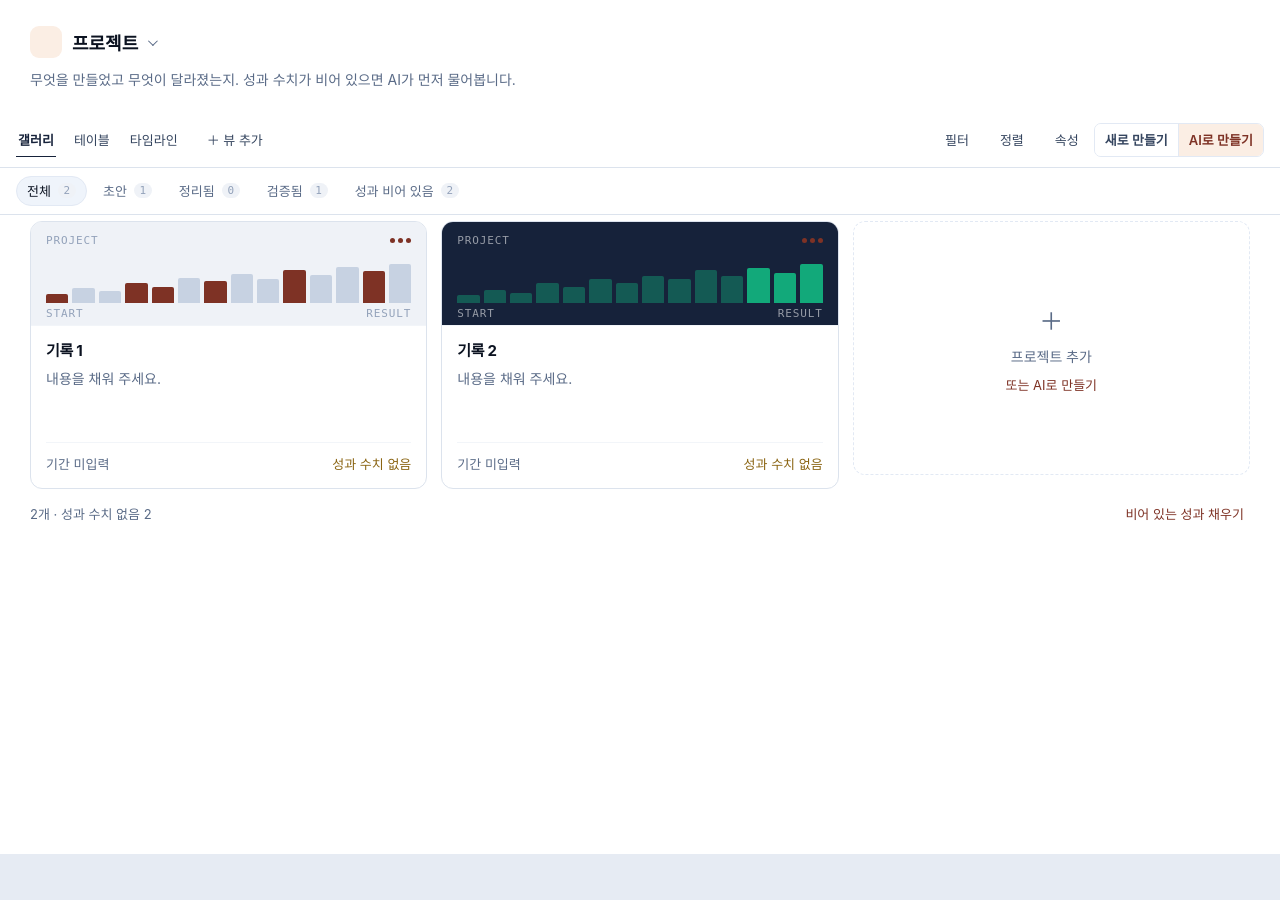
CareerViewShell › routes the project missing-outcome action into guided questions
Click the button "비어 있는 성과 채우기".
click(1185, 513)  # box left=1119, top=502, right=1250, bottom=524
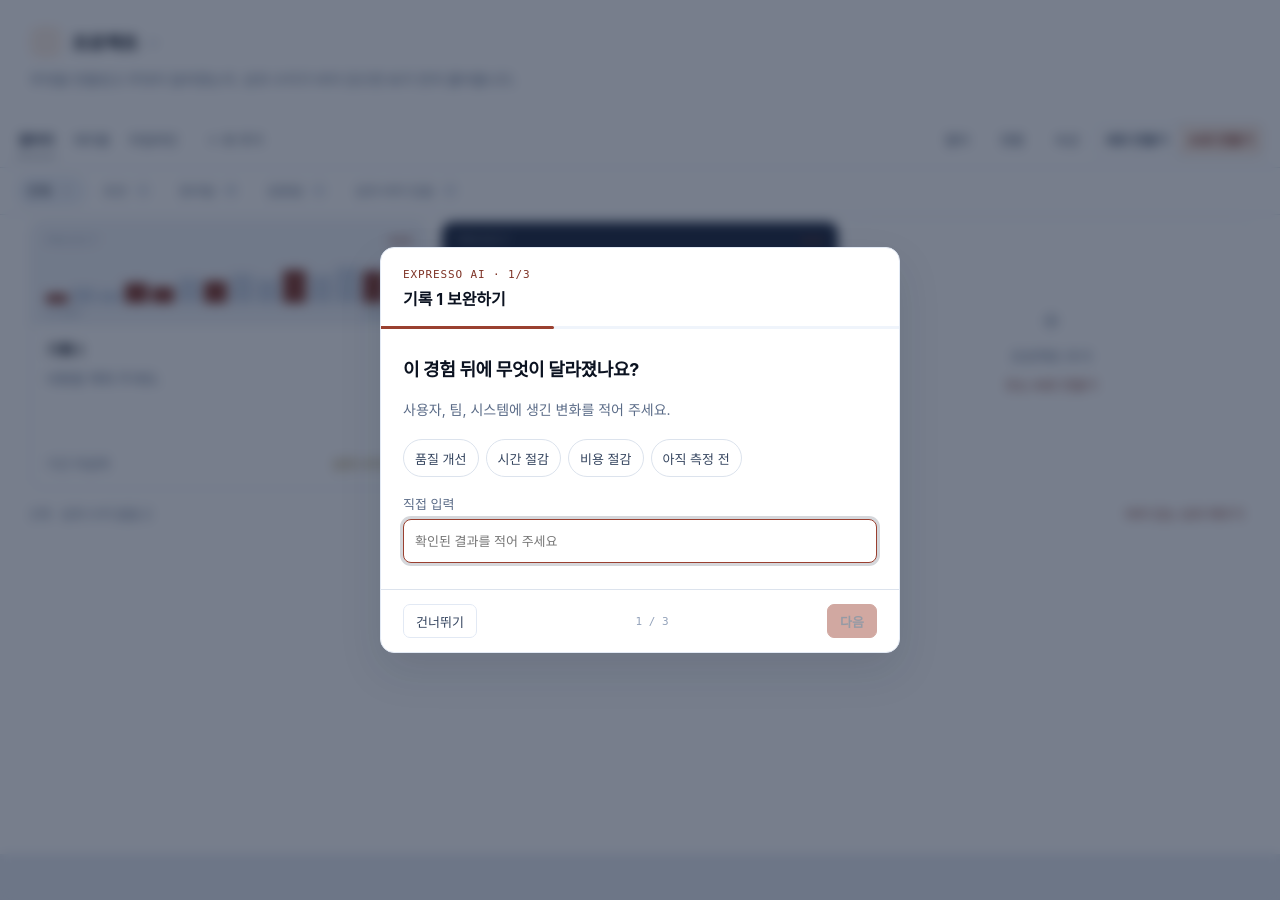
Check: the dialog shows "보완하기", box left=403, top=289, right=506, bottom=309
